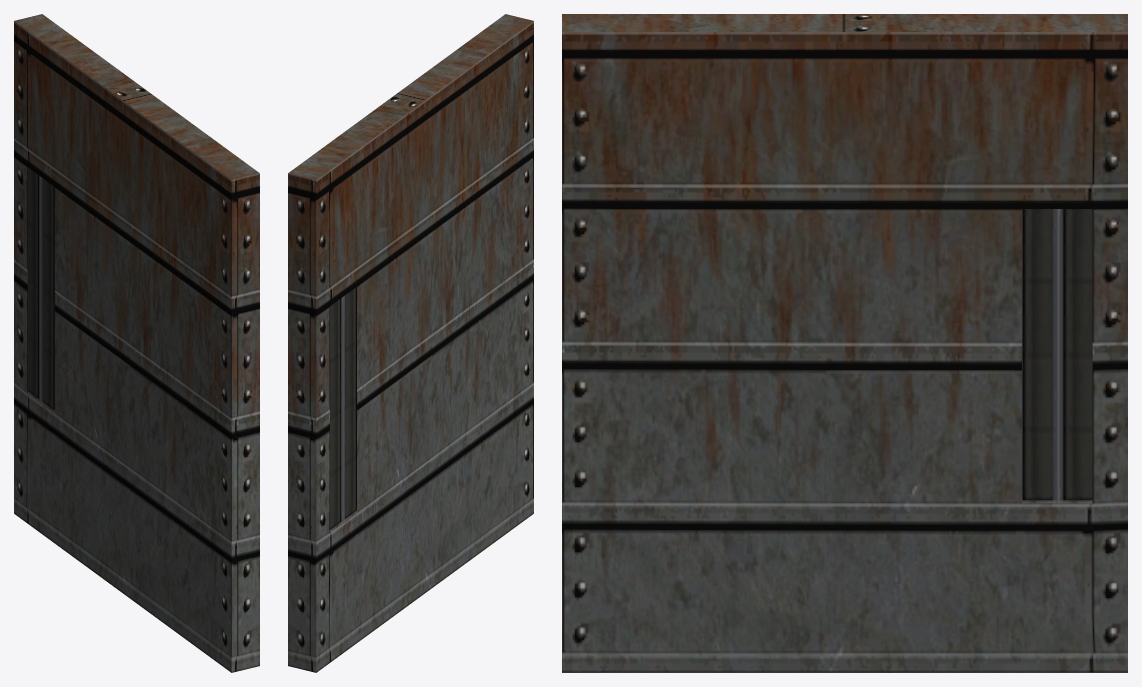
The model's file is BaseDoor_Ext02.glb.
The picture shows the model from 3 angles, left to right: view 1: azimuth 30°, elevation 25°; view 2: azimuth 150°, elevation 25°; view 3: azimuth 270°, elevation 25°; orthographic projection. The views are drawn at different scales.
Visible parts, largest first — view 1: BASEDOOR_EXT02; view 2: BASEDOOR_EXT02; view 3: BASEDOOR_EXT02.
Boxes of the visible parts, box(x1,y1,x2,y2) form: BASEDOOR_EXT02: box(14, 14, 259, 672); BASEDOOR_EXT02: box(288, 14, 533, 672); BASEDOOR_EXT02: box(562, 14, 1127, 672).
Bounding box in the file's own units: 0.15 × 2.5 × 2.
Materials: 2 (2 with a texture image).
